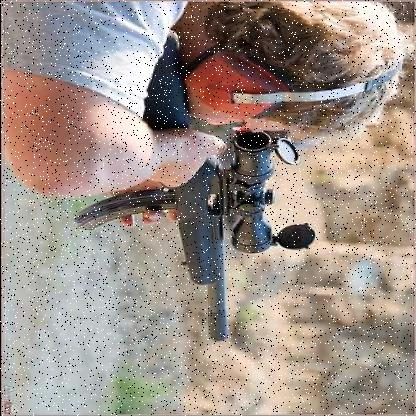rifle: (67, 26, 329, 358)
